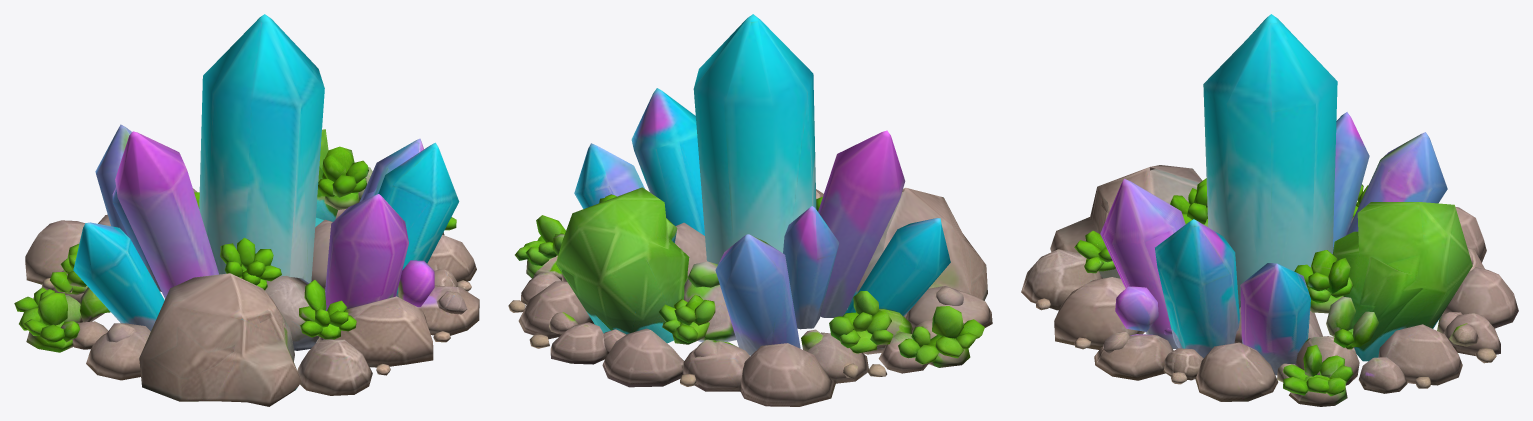
File: r6c4_mixed_crystal_cluster.glb
3 renders of one model, left to right at view 1: azimuth 30°, elevation 25°; view 2: azimuth 150°, elevation 25°; view 3: azimuth 270°, elevation 25°, orthographic. The views are drawn at different scales.
Size of the model in its own units: 1 by 0.6582 by 0.9707.
1 material, 1 textured.
